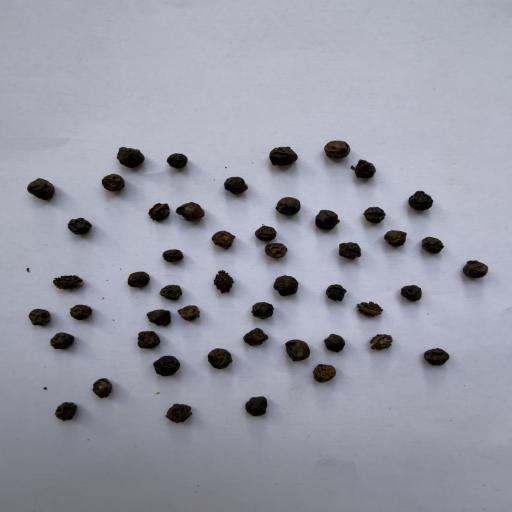Black_pepper: (159, 400, 200, 427), (147, 352, 181, 382), (202, 344, 236, 372), (21, 177, 57, 202), (175, 198, 208, 224), (265, 144, 301, 167), (282, 337, 312, 364), (350, 157, 382, 182), (243, 392, 271, 420), (313, 207, 340, 236), (418, 345, 452, 368), (131, 328, 164, 351), (52, 399, 82, 424), (271, 274, 302, 298), (207, 229, 239, 252), (459, 259, 492, 281), (406, 189, 436, 213), (310, 362, 340, 386), (115, 145, 146, 167), (320, 137, 351, 159), (222, 173, 250, 197), (90, 375, 114, 403), (48, 330, 77, 353), (380, 227, 410, 249), (396, 282, 426, 304), (240, 326, 267, 350), (246, 300, 278, 320), (336, 238, 363, 261), (99, 172, 127, 194), (66, 216, 94, 238), (274, 196, 304, 216), (324, 330, 348, 354), (419, 235, 446, 256), (147, 308, 175, 328), (362, 204, 388, 225), (164, 150, 191, 170), (264, 243, 292, 262), (157, 283, 185, 302), (66, 302, 94, 321), (158, 246, 187, 264), (252, 225, 280, 243), (323, 281, 347, 302), (24, 308, 52, 326), (126, 270, 151, 290), (176, 303, 202, 322)
papaya_seed: (207, 266, 236, 295), (51, 272, 89, 293), (147, 200, 176, 226), (354, 298, 384, 320), (366, 331, 396, 351)
